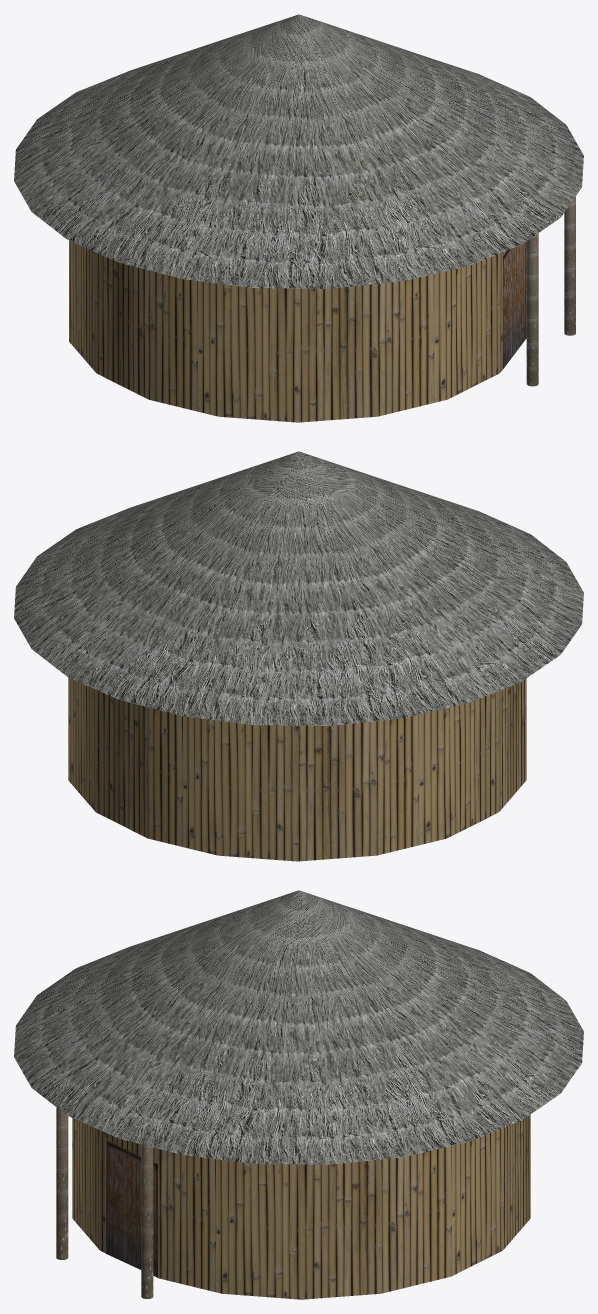
The model's file is 3rd_world_building_1.FBX.
The picture shows the model from 3 angles, top to bottom: view 1: azimuth 30°, elevation 25°; view 2: azimuth 150°, elevation 25°; view 3: azimuth 270°, elevation 25°; orthographic projection.
Visible parts, largest first — view 1: Cone001, Cylinder001, Plane001, Cylinder002, Cylinder003; view 2: Cone001, Cylinder001; view 3: Cone001, Cylinder001, Plane001, Cylinder003, Cylinder002.
Part boxes in pixels (box(x1,y1,x2,y2)): Cone001: box(14, 14, 583, 288); Cylinder001: box(69, 240, 526, 422); Plane001: box(502, 242, 526, 369); Cylinder002: box(526, 233, 538, 386); Cylinder003: box(564, 196, 575, 335); Cone001: box(14, 451, 583, 725); Cylinder001: box(68, 677, 526, 861); Cone001: box(14, 890, 583, 1164); Cylinder001: box(72, 1114, 530, 1299); Plane001: box(105, 1139, 157, 1277); Cylinder003: box(141, 1144, 153, 1298); Cylinder002: box(56, 1107, 68, 1259).
Size of the model in its own units: 97.6 by 58.8 by 97.6.
